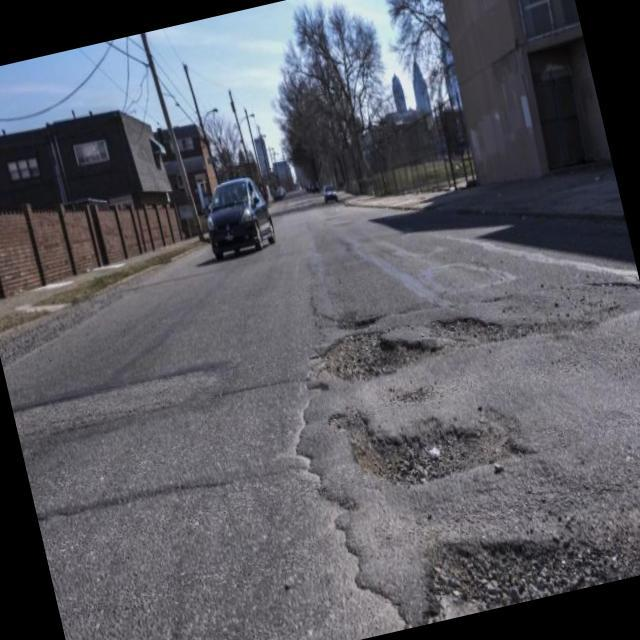Pothole: (327, 371, 530, 504), (402, 500, 608, 625), (316, 310, 434, 395), (434, 302, 514, 358)
